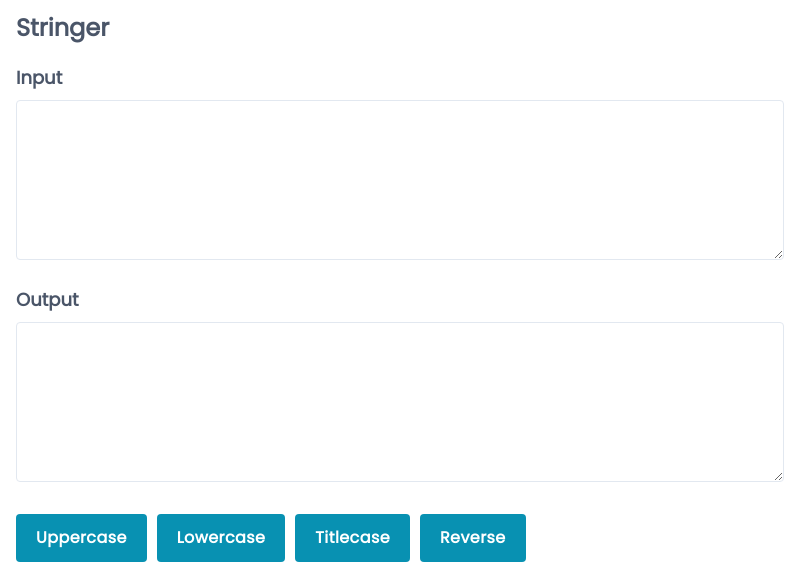
Test: clicking "Lowercase" button should convert input text to lowercase
The width and height of the screenshot is (801, 579).
Type "HELLO, WORLD!" into the text box labelled "Input" at (400,180), box [16,100,784,260]
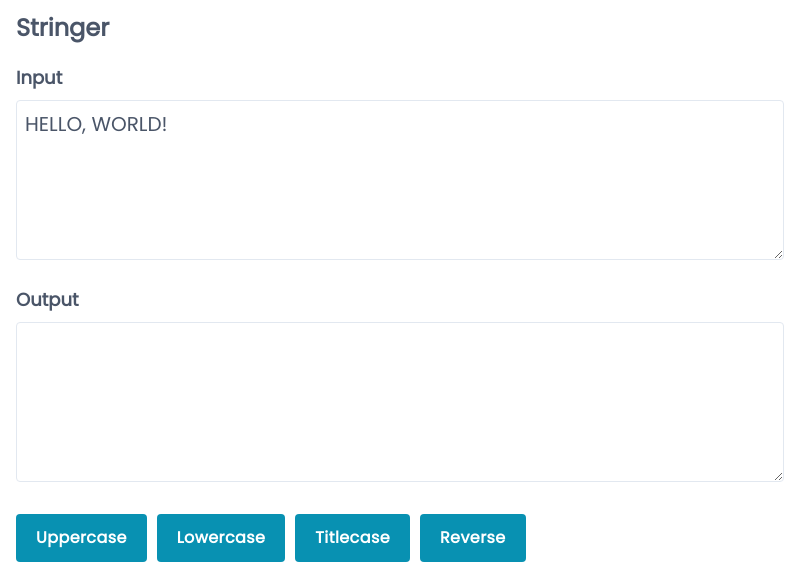
Click the button "Lowercase" at (221,538), box [157,514,285,562]
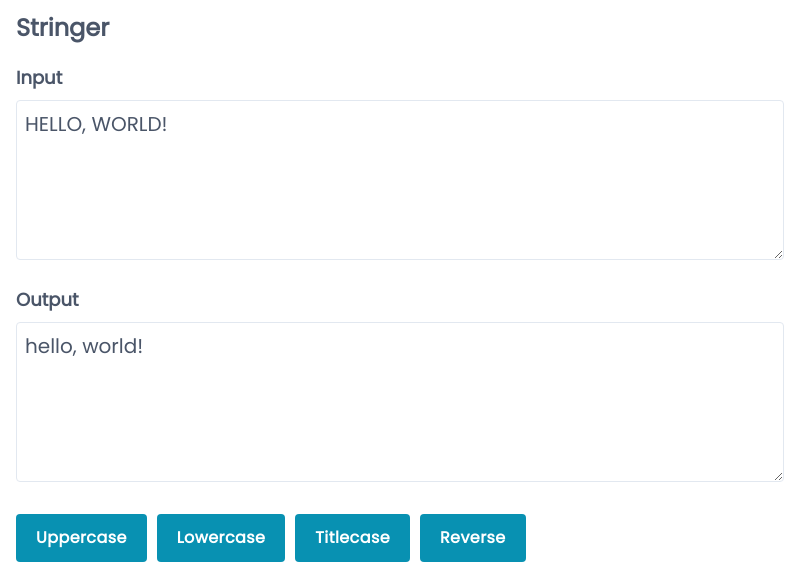
Expected: the text box labelled "Output" holds "hello, world!", [16,322,784,482]
